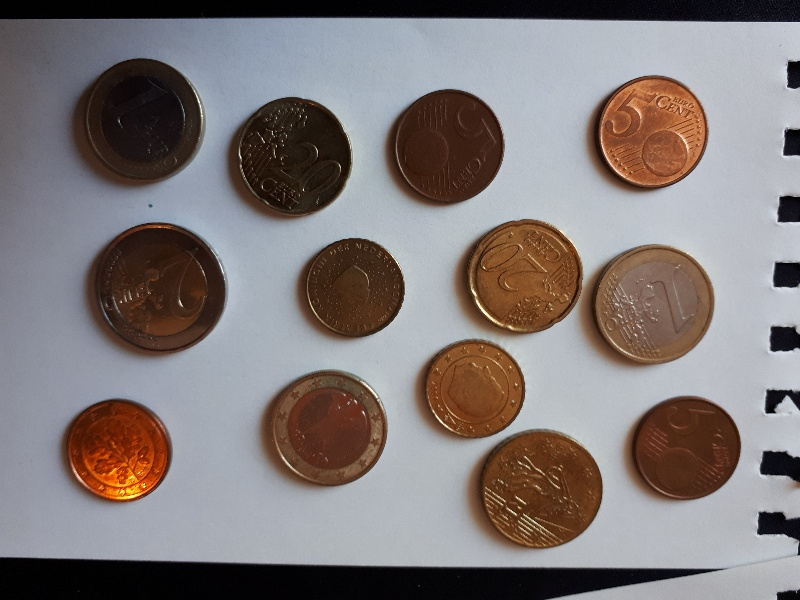1 euro: (589, 241, 718, 368), (84, 57, 207, 185), (266, 367, 390, 489)
10 cent: (421, 337, 528, 443), (302, 235, 408, 338)
2 euro: (90, 219, 231, 356)
20 cent: (231, 95, 355, 220), (461, 216, 588, 337)
5 cent: (595, 71, 711, 194), (390, 89, 507, 208), (628, 395, 743, 503), (63, 396, 175, 505)
50 cent: (477, 427, 605, 553)
